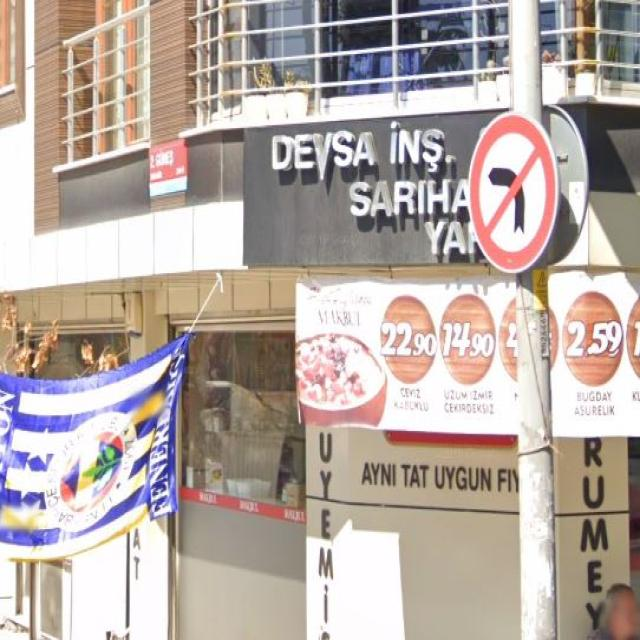soladonulmez: (469, 112, 557, 272)
